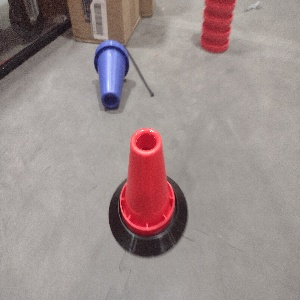Blue_1: (89, 41, 132, 110)
Red_1: (118, 129, 176, 235)
